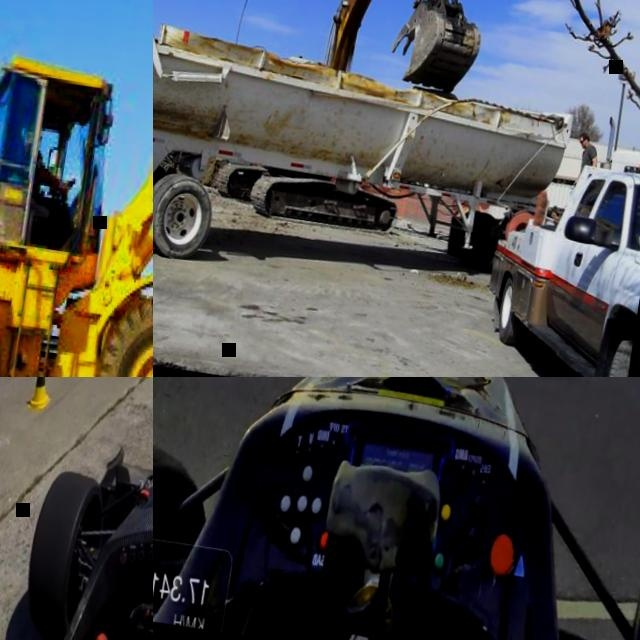NO-Hardhat: (579, 133, 588, 141)
NO-Mask: (580, 141, 586, 150)
NO-Safety Vest: (29, 149, 48, 196), (580, 143, 594, 169)
Person: (6, 128, 86, 253), (575, 133, 601, 173)
Safety Cone: (23, 377, 59, 415)
machinery: (153, 1, 640, 377), (207, 0, 508, 245), (0, 0, 153, 377)
vehicle: (153, 377, 640, 640), (0, 377, 153, 640)
